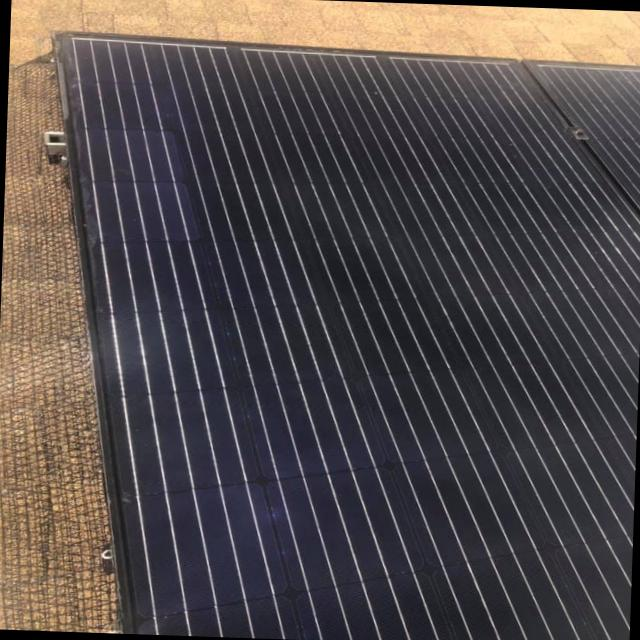no faulty: (80, 50, 631, 639)
